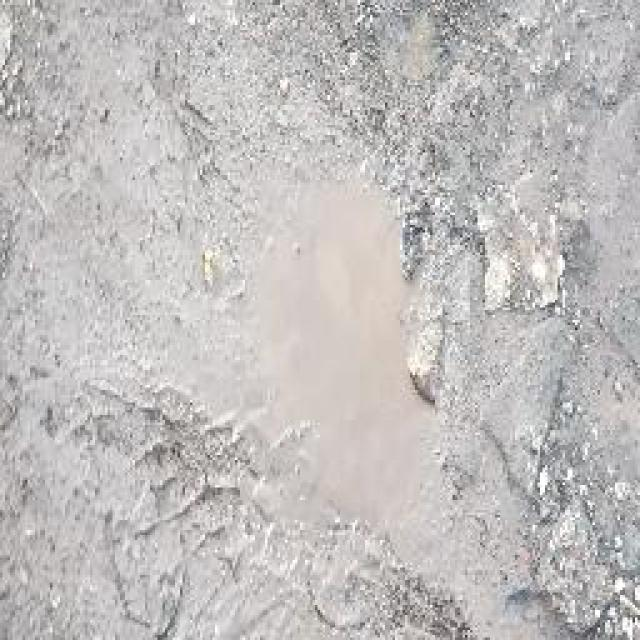puddle: (247, 170, 449, 542)
